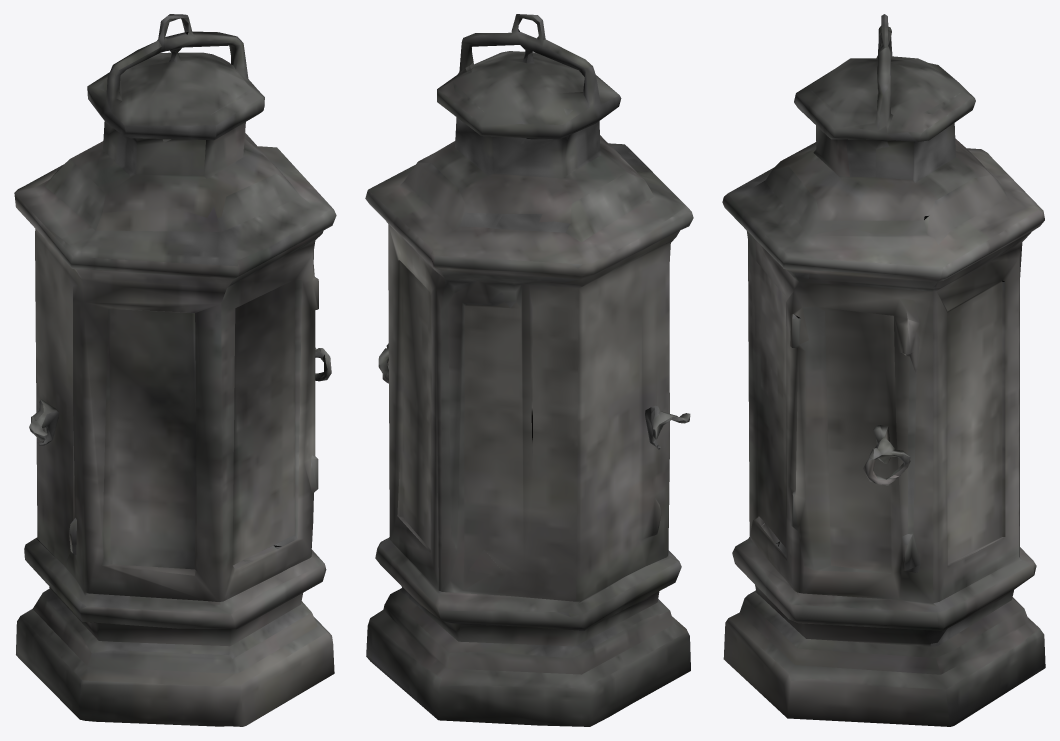
The model's file is old-granite-lantern-v001.glb.
The picture shows the model from 3 angles, left to right: view 1: azimuth 30°, elevation 25°; view 2: azimuth 150°, elevation 25°; view 3: azimuth 270°, elevation 25°; orthographic projection.
Parts seen in each view (by area): view 1: old-granite-lantern; view 2: old-granite-lantern; view 3: old-granite-lantern.
Part boxes in pixels (<box>): old-granite-lantern: <box>14,14,336,726</box>; old-granite-lantern: <box>365,14,693,726</box>; old-granite-lantern: <box>722,14,1045,726</box>.
Bounding box in the file's own units: 0.3119 × 0.6482 × 0.2929.
Materials: 1 (1 with a texture image).
